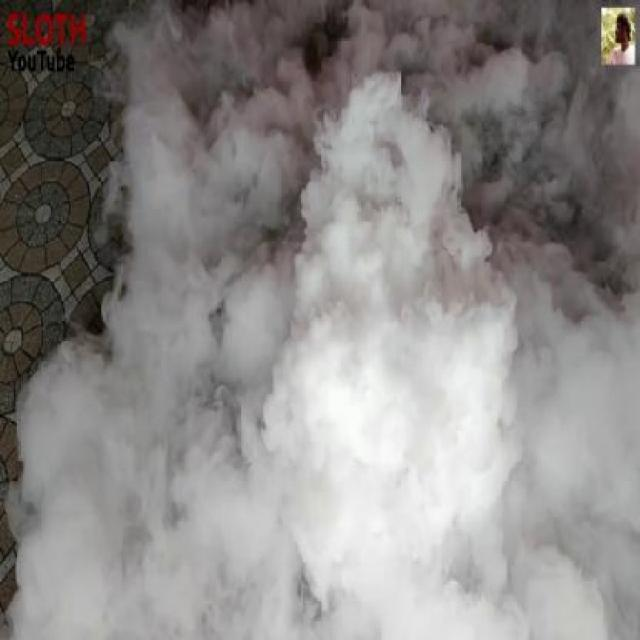smoke: (165, 86, 610, 640)
